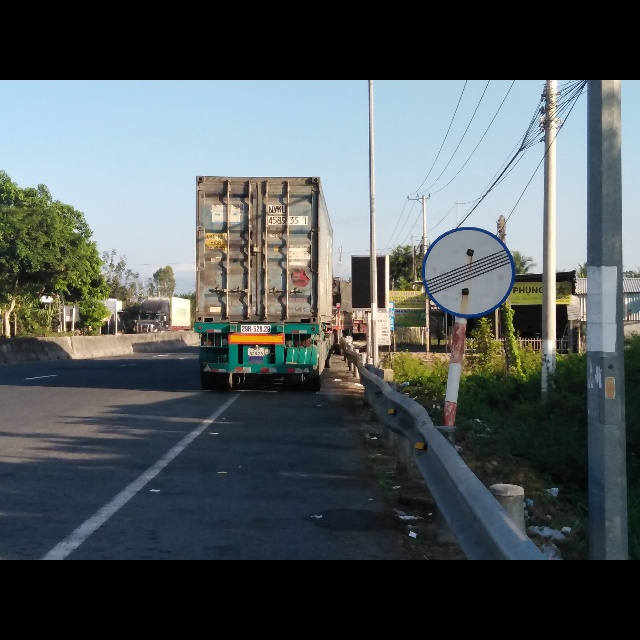Hết tất cả các lệnh cấm: (418, 226, 517, 321)
